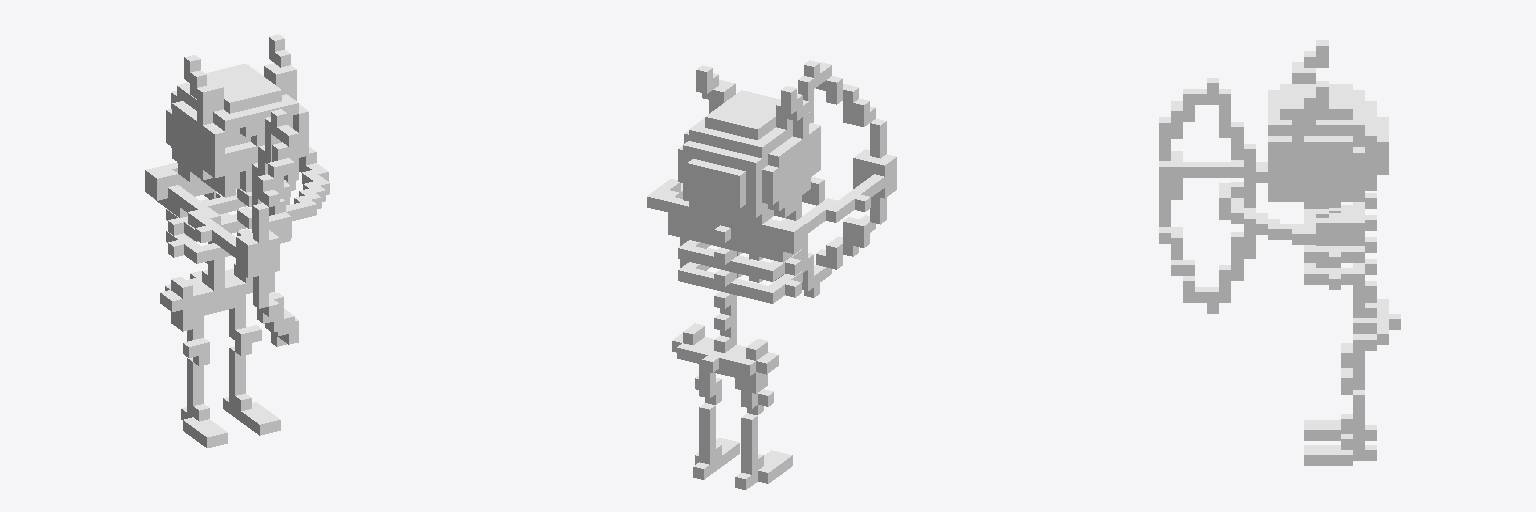
The model's file is SkeletonArcherModel.obj.
3 views of the same model, side by side, from view 1: azimuth 30°, elevation 25°; view 2: azimuth 150°, elevation 25°; view 3: azimuth 270°, elevation 25° (orthographic).
Visible parts, largest first — view 1: object 1; view 2: object 1; view 3: object 1.
Part boxes in pixels (x1,y1,x2,y2): object 1: (145, 34, 329, 447); object 1: (647, 60, 896, 489); object 1: (1159, 40, 1400, 465).
Size of the model in its own units: 1.5 by 3.5 by 2.